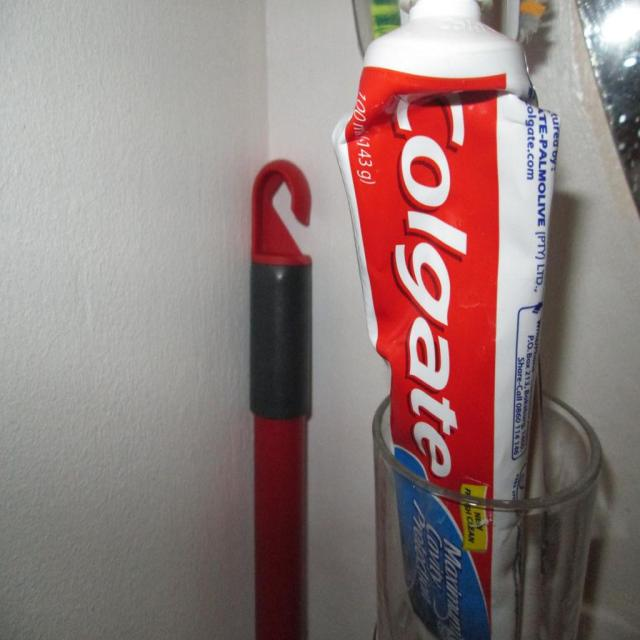Toothpaste: (333, 0, 575, 636)
